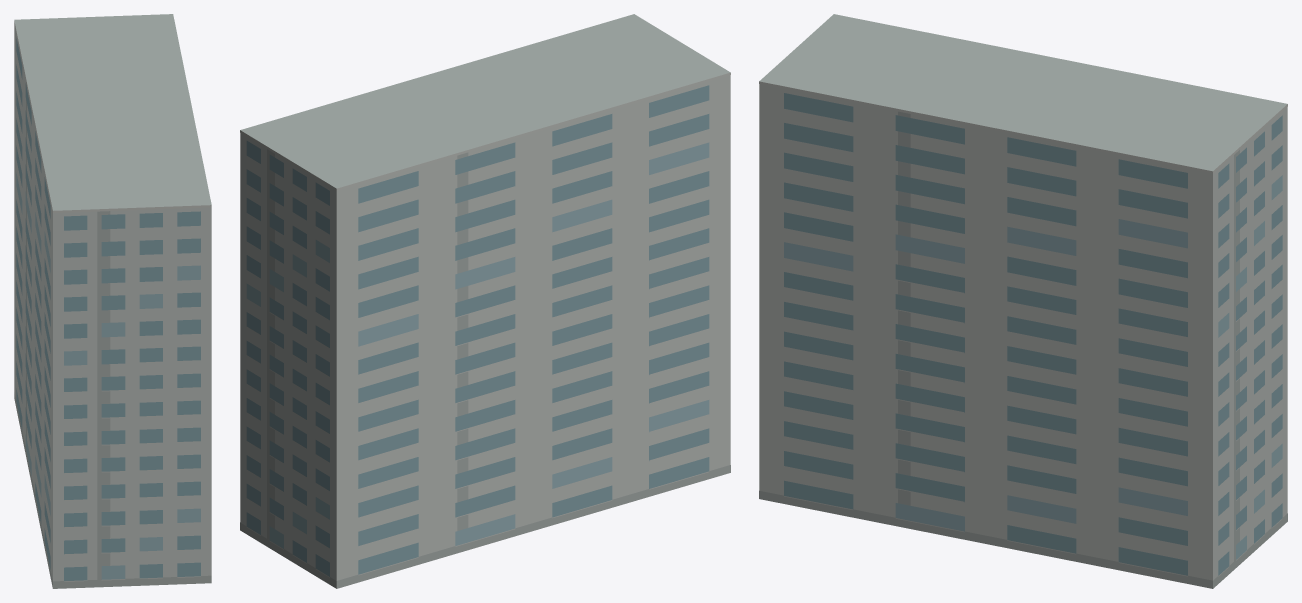
Rendered from residential-aa249cbc-43a2-4435-a596-0ebe61a5a59b.glb.
3 views of the same model, side by side, from view 1: azimuth 30°, elevation 25°; view 2: azimuth 150°, elevation 25°; view 3: azimuth 270°, elevation 25° (orthographic). The views are drawn at different scales.
Parts seen in each view (by area): view 1: residential-aa249cbc-43a2-4435-a596-0ebe61a5a59b.tmp; view 2: residential-aa249cbc-43a2-4435-a596-0ebe61a5a59b.tmp; view 3: residential-aa249cbc-43a2-4435-a596-0ebe61a5a59b.tmp.
Boxes of the visible parts, x1,y1,x2,y2 form: residential-aa249cbc-43a2-4435-a596-0ebe61a5a59b.tmp: (14, 14, 211, 588); residential-aa249cbc-43a2-4435-a596-0ebe61a5a59b.tmp: (240, 14, 730, 588); residential-aa249cbc-43a2-4435-a596-0ebe61a5a59b.tmp: (759, 14, 1287, 588).
Bounding box in the file's own units: 31.51 × 39 × 44.75.
